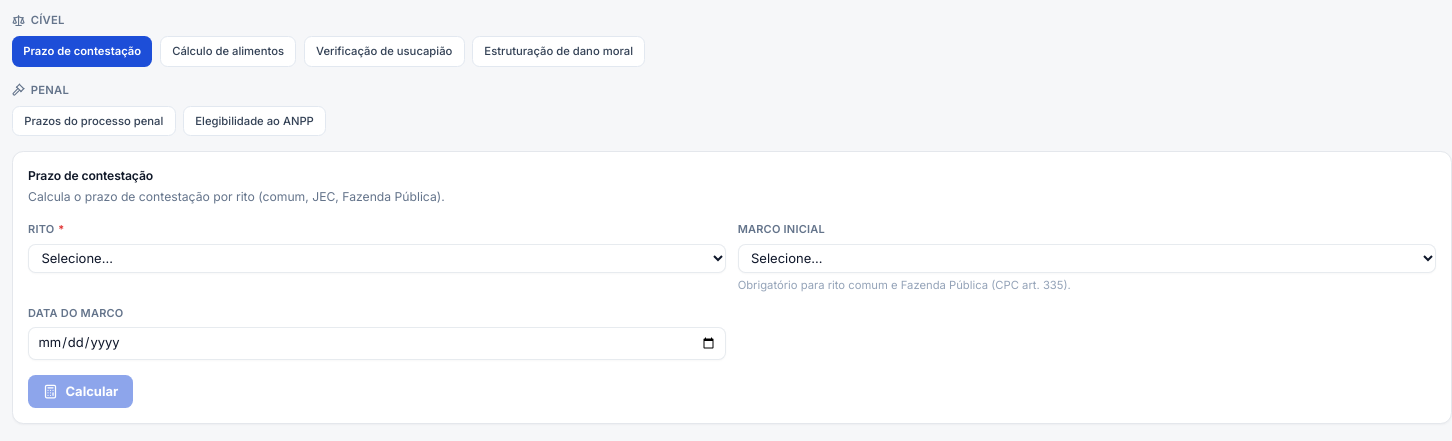
it: CalculadorasJuridicas — cálculo › trata erro 422 com detail em array (validação Pydantic)
Click the button "Prazos do processo penal" at (94, 121), box top-left (12, 106), bottom-right (176, 136)
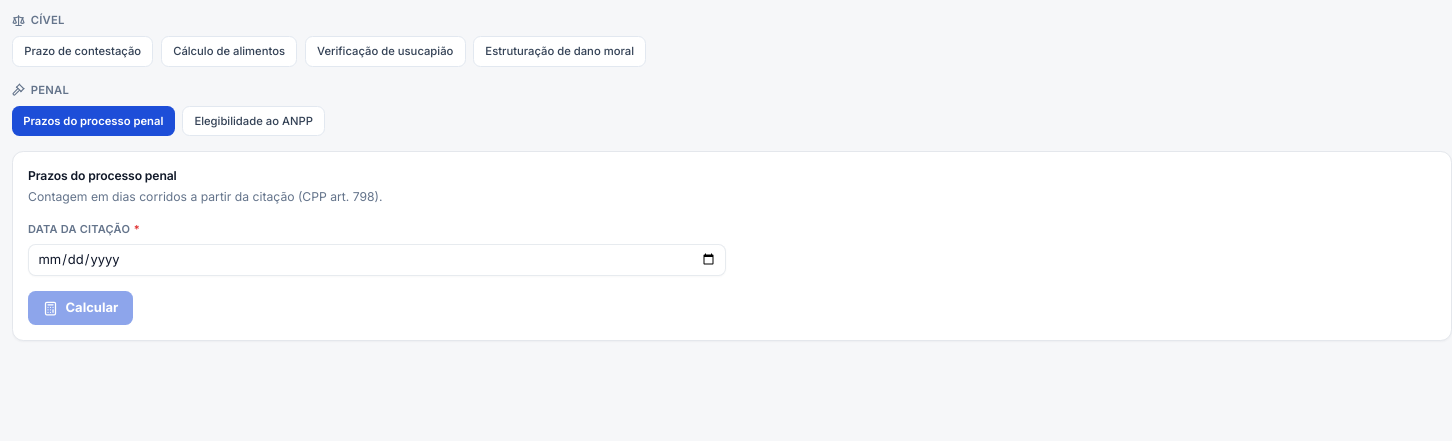
Type "2026-01-01" into the date field at (377, 260), box top-left (28, 244), bottom-right (726, 276)
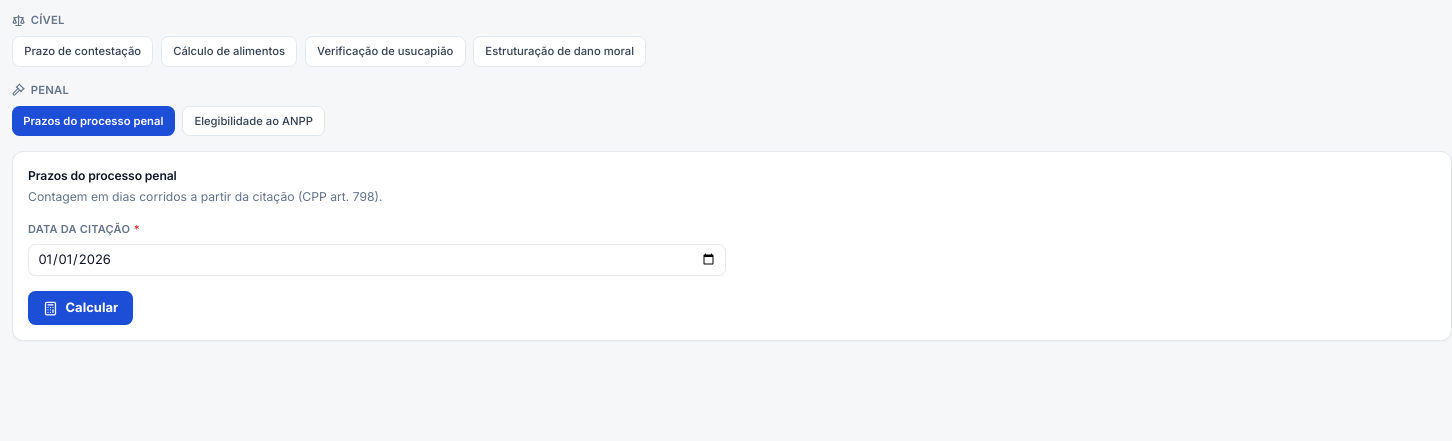
Click the button "Calcular" at (81, 308), box top-left (28, 291), bottom-right (133, 325)
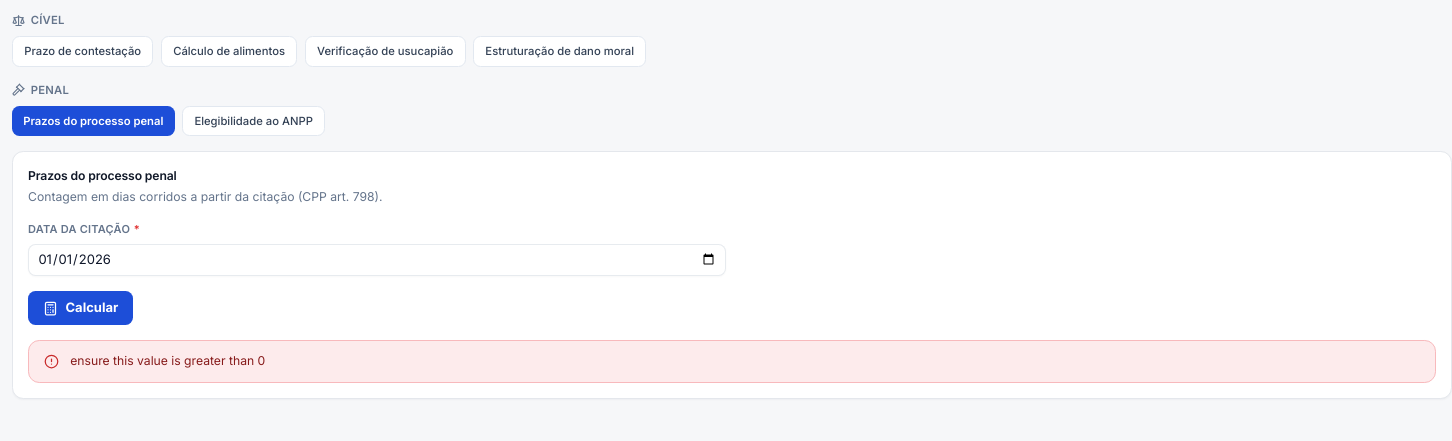
Expected: the text "ensure this value is greater than 0" is shown, top-left (70, 352), bottom-right (265, 371)
